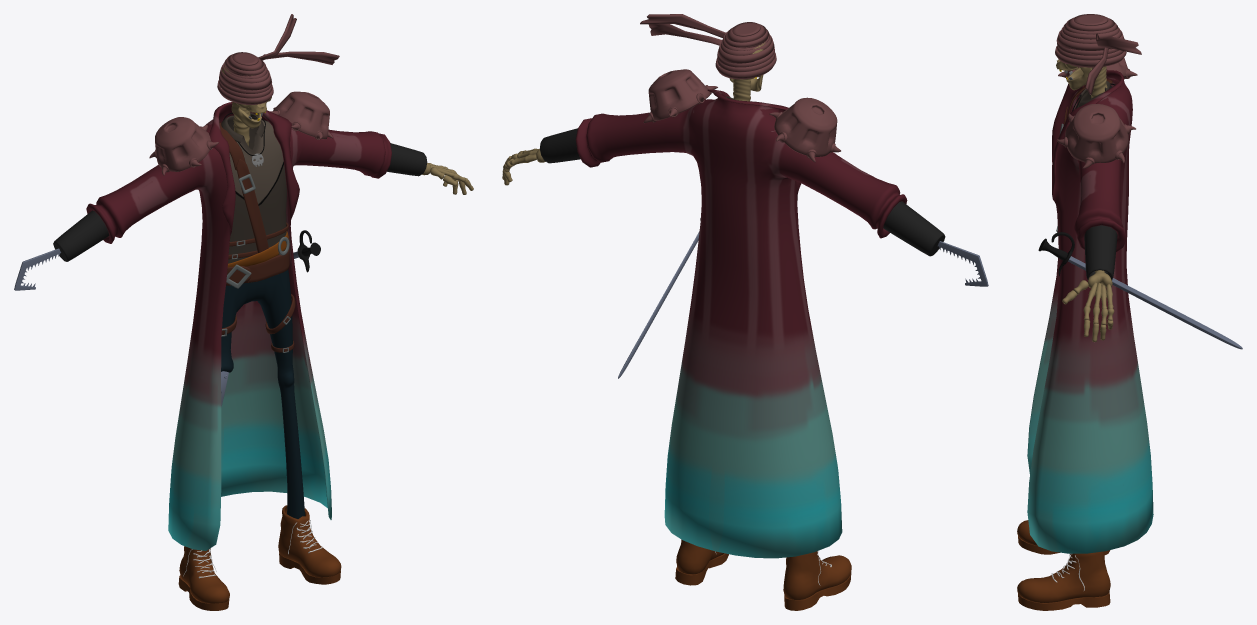
The model's file is skeleton pirate .fbx.
The picture shows the model from 3 angles, left to right: view 1: azimuth 30°, elevation 25°; view 2: azimuth 150°, elevation 25°; view 3: azimuth 270°, elevation 25°; orthographic projection. The views are drawn at different scales.
Parts seen in each view (by area): view 1: Circle.001, Cylinder.004, Bolts, Cylinder.002, g.001, Cube.004, Circle.005, Cube.003, Cylinder.001, Cylinder.005, Cylinder, Cylinder.006 (+1 smaller); view 2: Circle.001, Bolts, g.001, Cube.004, Circle.005, Cube.003, Cube.002, Cube.001; view 3: Circle.001, Bolts, g.001, Cube.003, Cube.007, Cube.002, Circle.005, g.002, Cube.004.
Part boxes in pixels (left/top/right/bottom): Circle.001: left=86, top=102, right=391, bottom=550; Cylinder.004: left=221, top=269, right=304, bottom=518; Bolts: left=178, top=505, right=341, bottom=610; Cylinder.002: left=221, top=113, right=287, bottom=263; g.001: left=217, top=14, right=339, bottom=113; Cube.004: left=149, top=117, right=218, bottom=175; Circle.005: left=53, top=143, right=427, bottom=261; Cube.003: left=270, top=91, right=332, bottom=139; Cylinder.001: left=219, top=122, right=268, bottom=253; Cylinder.005: left=226, top=248, right=289, bottom=288; Cylinder: left=227, top=222, right=289, bottom=267; Cylinder.006: left=221, top=174, right=295, bottom=352; Circle.001: left=575, top=89, right=907, bottom=558; Bolts: left=675, top=539, right=851, bottom=610; g.001: left=640, top=14, right=776, bottom=79; Cube.004: left=769, top=97, right=840, bottom=162; Circle.005: left=539, top=128, right=945, bottom=256; Cube.003: left=643, top=69, right=717, bottom=123; Cube.002: left=618, top=218, right=700, bottom=378; Cube.001: left=937, top=241, right=988, bottom=286; Circle.001: left=1027, top=70, right=1153, bottom=553; Bolts: left=1017, top=520, right=1110, bottom=610; g.001: left=1055, top=14, right=1141, bottom=94; Cube.003: left=1056, top=104, right=1135, bottom=168; Cube.007: left=1062, top=270, right=1114, bottom=342; Cube.002: left=1038, top=232, right=1242, bottom=349; Circle.005: left=1084, top=85, right=1117, bottom=280; g.002: left=1066, top=67, right=1091, bottom=90; Cube.004: left=1058, top=57, right=1137, bottom=79.
Bounding box in the file's own units: 2238 × 2506 × 897.
Materials: 17 (2 with a texture image).
